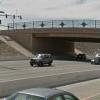Bridge: (8, 7, 98, 47)
